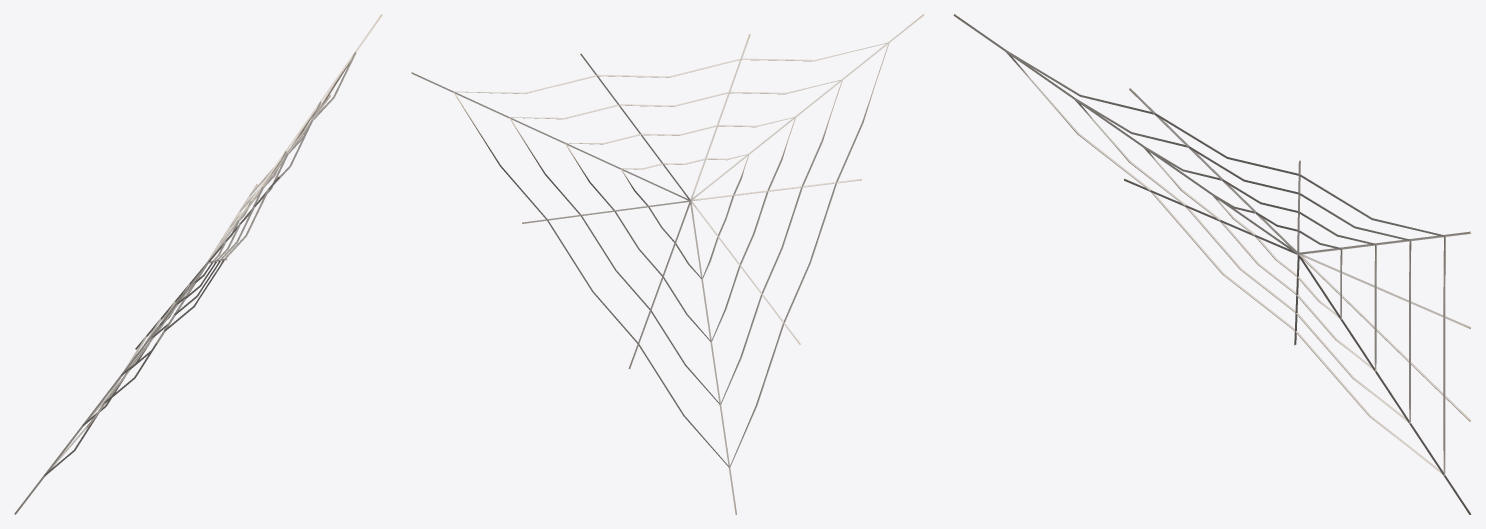
The model's file is cobweb_corner.obj.
3 renders of one model, left to right at view 1: azimuth 30°, elevation 25°; view 2: azimuth 150°, elevation 25°; view 3: azimuth 270°, elevation 25°, orthographic. The views are drawn at different scales.
Visible parts, largest first — view 1: cobweb_corner; view 2: cobweb_corner; view 3: cobweb_corner.
Boxes of the visible parts, left/top/right/bottom form: cobweb_corner: left=14, top=14, right=382, bottom=514; cobweb_corner: left=411, top=14, right=923, bottom=514; cobweb_corner: left=953, top=14, right=1471, bottom=514.
Size of the model in its own units: 0.592 by 0.6319 by 0.5919.
Materials: 1 (1 with a texture image).
